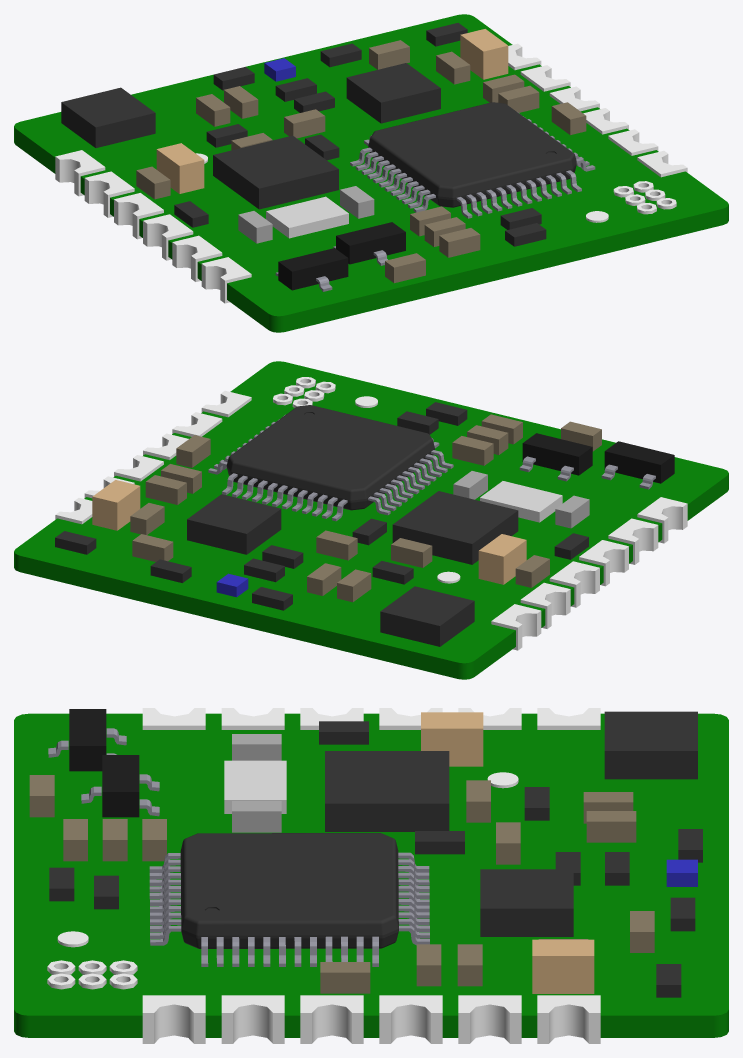
Rendered from TSS-EM-2_6.obj.
3 renders of one model, top to bottom at view 1: azimuth 30°, elevation 25°; view 2: azimuth 150°, elevation 25°; view 3: azimuth 270°, elevation 25°, orthographic. The views are drawn at different scales.
Parts seen in each view (by area): view 1: TS_board.11, TS_BODY_VBC48A.60, TS_padsandpins.4, TS_C1.1, TS_Leads3.17, TS_VR1.5, TS_C15.5, TS_Xtal1.1, TS_C6, TS_LED1.5; view 2: TS_board.11, TS_BODY_VBC48A.60, TS_padsandpins.4, TS_C1.1, TS_Leads3.17, TS_VR1.5, TS_C15.5, TS_Xtal1.1, TS_C6, TS_LED1.5; view 3: TS_board.11, TS_BODY_VBC48A.60, TS_padsandpins.4, TS_C1.1, TS_Leads3.17, TS_C15.5, TS_VR1.5, TS_C6, TS_Xtal1.1, TS_LED1.5.
Part boxes in pixels (x1,y1,x2,y2): TS_board.11: [14, 14, 728, 332]; TS_BODY_VBC48A.60: [61, 22, 576, 246]; TS_padsandpins.4: [55, 43, 687, 303]; TS_C1.1: [136, 40, 586, 283]; TS_Leads3.17: [275, 112, 595, 291]; TS_VR1.5: [278, 222, 405, 290]; TS_C15.5: [156, 29, 508, 193]; TS_Xtal1.1: [266, 196, 348, 238]; TS_C6: [238, 186, 374, 243]; TS_LED1.5: [264, 58, 295, 81]; TS_board.11: [14, 361, 728, 679]; TS_BODY_VBC48A.60: [55, 402, 588, 646]; TS_padsandpins.4: [55, 377, 687, 650]; TS_C1.1: [130, 414, 601, 602]; TS_Leads3.17: [208, 414, 655, 521]; TS_VR1.5: [522, 433, 674, 483]; TS_C15.5: [92, 480, 526, 584]; TS_Xtal1.1: [480, 481, 562, 522]; TS_C6: [453, 471, 589, 528]; TS_LED1.5: [216, 573, 248, 597]; TS_board.11: [14, 713, 728, 1037]; TS_BODY_VBC48A.60: [49, 711, 702, 997]; TS_padsandpins.4: [47, 708, 600, 1043]; TS_C1.1: [29, 775, 654, 993]; TS_Leads3.17: [48, 728, 429, 966]; TS_C15.5: [421, 712, 594, 993]; TS_VR1.5: [69, 709, 139, 817]; TS_C6: [232, 734, 281, 832]; TS_Xtal1.1: [224, 760, 286, 813]; TS_LED1.5: [666, 859, 697, 886].
Bounding box in the file's own units: 23.2 × 2.3 × 23.
